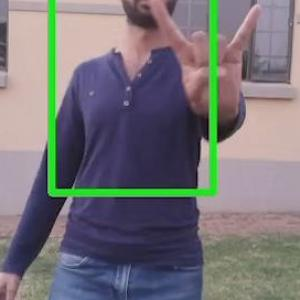takeoff-hand: (143, 0, 267, 135)
